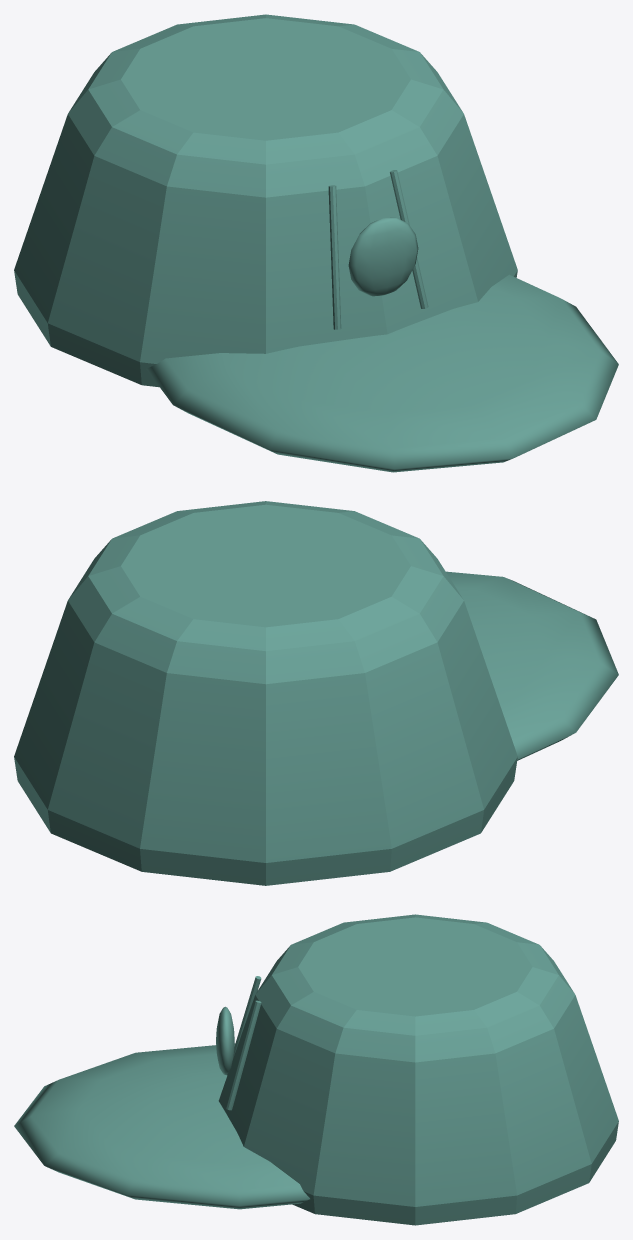
File: hat_cap.glb
3 renders of one model, top to bottom at view 1: azimuth 30°, elevation 25°; view 2: azimuth 150°, elevation 25°; view 3: azimuth 270°, elevation 25°, orthographic. The views are drawn at different scales.
Visible parts, largest first — view 1: cap, bill, embroidered_crest, stitch, stitch.001; view 2: cap, bill; view 3: cap, bill, embroidered_crest, stitch.001.
Part boxes in pixels (x1,y1,x2,y2): cap: (14, 14, 517, 387); bill: (146, 274, 618, 472); embroidered_crest: (348, 217, 418, 296); stitch: (328, 185, 341, 329); stitch.001: (390, 170, 428, 308); cap: (14, 501, 517, 885); bill: (446, 571, 618, 760); cap: (218, 914, 618, 1225); bill: (14, 1043, 309, 1209); embroidered_crest: (216, 1006, 234, 1074); stitch.001: (226, 1000, 261, 1110).
Size of the model in its own units: 0.6494 by 0.325 by 0.9647.
